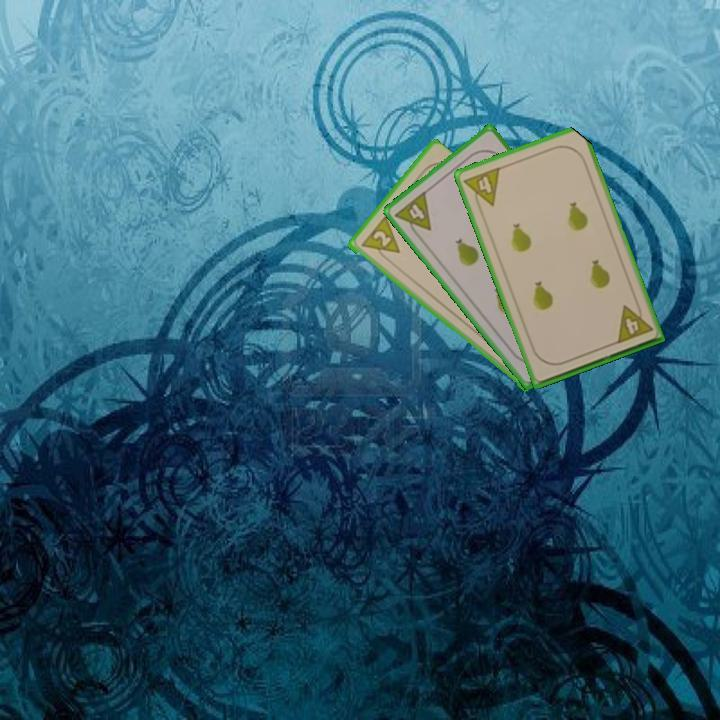2p: (357, 213, 403, 265)
4p: (391, 187, 434, 242), (460, 163, 503, 213), (613, 298, 656, 347)
